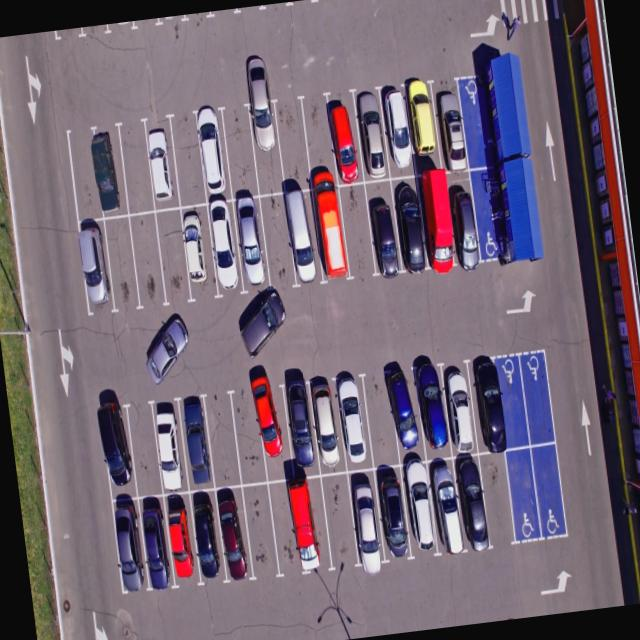car: (286, 472, 334, 577), (253, 378, 298, 480), (332, 369, 376, 468), (94, 398, 137, 499), (368, 462, 412, 560), (87, 122, 131, 220), (414, 168, 457, 268), (212, 487, 255, 585), (281, 378, 323, 478), (178, 391, 220, 490), (72, 217, 114, 316), (231, 194, 274, 290), (149, 398, 191, 496), (143, 114, 185, 212), (176, 202, 218, 300), (202, 200, 244, 296), (280, 188, 322, 284), (396, 461, 438, 556), (189, 485, 229, 584), (384, 366, 424, 464), (305, 376, 345, 474), (412, 360, 452, 458), (346, 468, 386, 566), (438, 358, 478, 455), (161, 489, 201, 586), (246, 100, 286, 196), (362, 178, 402, 274), (390, 174, 430, 270), (470, 358, 510, 454), (311, 184, 351, 279), (324, 90, 364, 184), (406, 79, 446, 173), (193, 108, 232, 204), (449, 452, 488, 548), (352, 89, 391, 182), (427, 455, 465, 550), (379, 82, 418, 174), (136, 492, 174, 586), (110, 500, 148, 590), (436, 79, 470, 171)
free: (317, 469, 362, 574), (126, 210, 170, 310), (227, 384, 268, 485), (155, 205, 196, 306), (168, 112, 210, 210), (116, 118, 158, 216), (124, 400, 166, 498), (359, 368, 400, 468), (101, 213, 142, 312), (202, 389, 243, 488), (239, 481, 280, 580), (256, 192, 298, 288), (334, 182, 376, 276), (220, 104, 261, 199), (479, 448, 519, 545), (530, 442, 571, 536), (301, 94, 341, 190), (494, 355, 532, 454), (503, 445, 542, 541), (65, 127, 104, 223), (268, 476, 304, 577), (520, 351, 558, 446), (272, 100, 310, 194)
